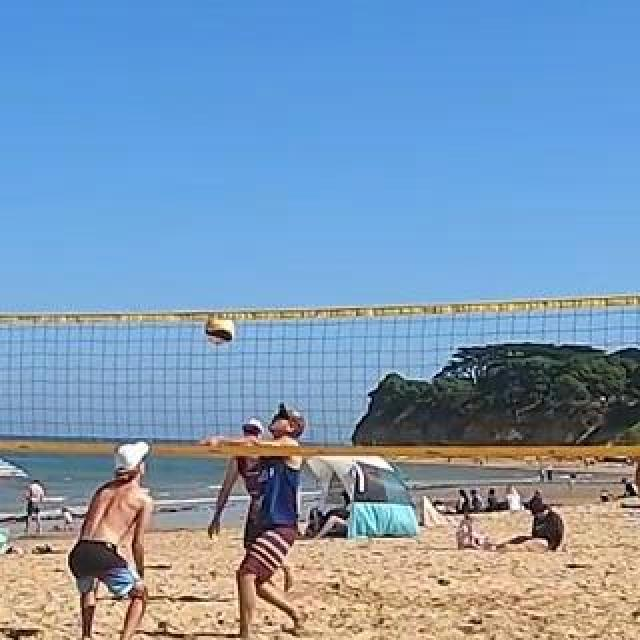volleyball: (205, 316, 237, 344)
